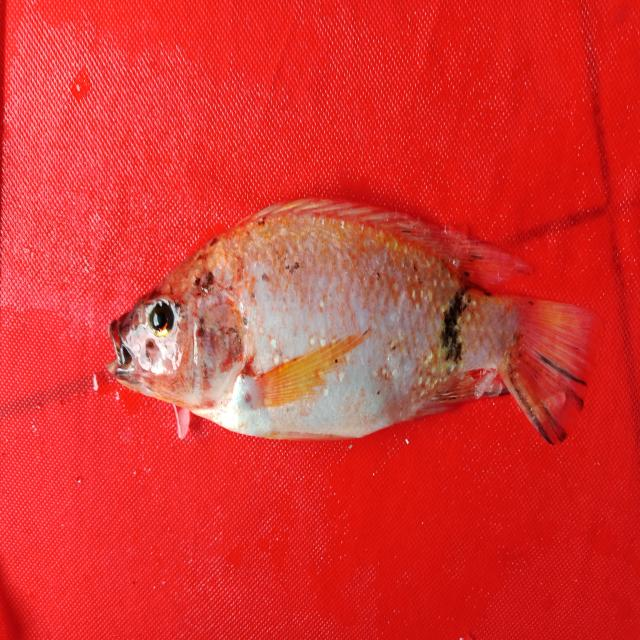ikan: (99, 166, 599, 470)
